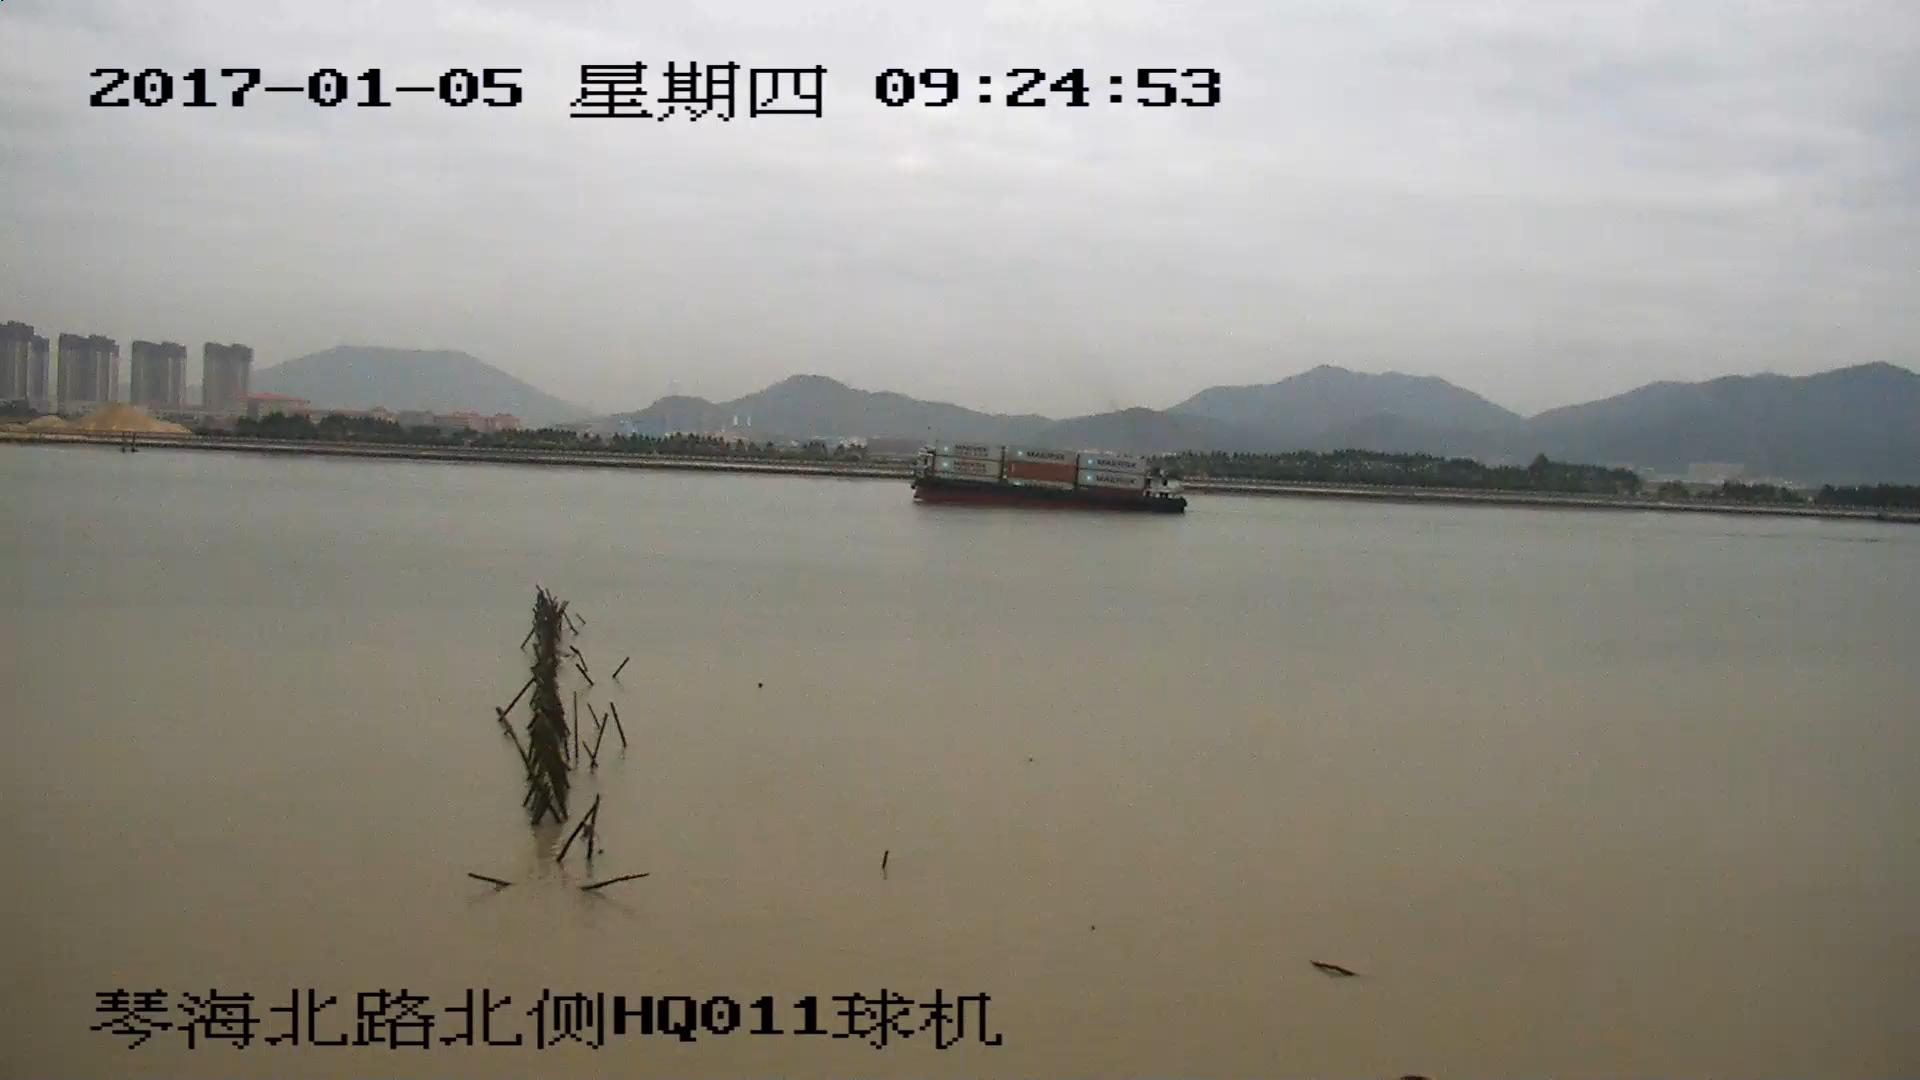container ship: (911, 444, 1188, 515)
